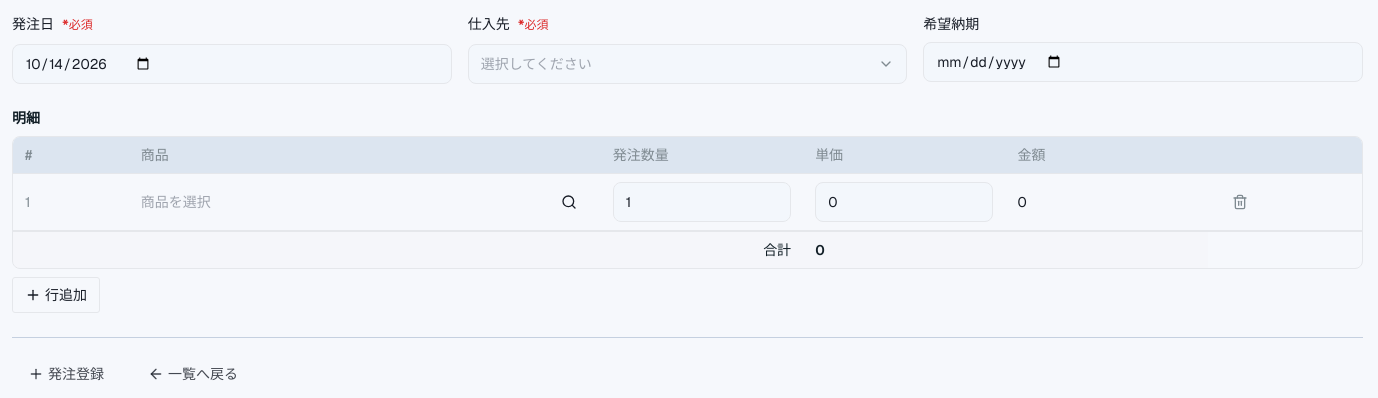
Test case: OrderForm - インタラクション › 仕入先のComboboxオプションが表示されること
Step 1. Click the button "選択してください" → (536, 64), box [468,44,907,84]
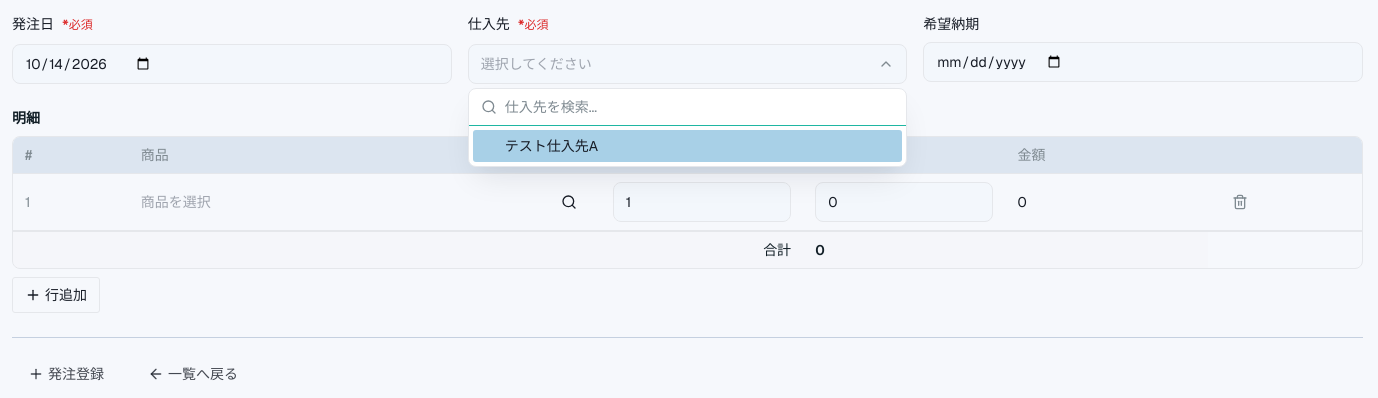
expect the option "テスト仕入先A" is shown: met, box [473,130,902,162]
